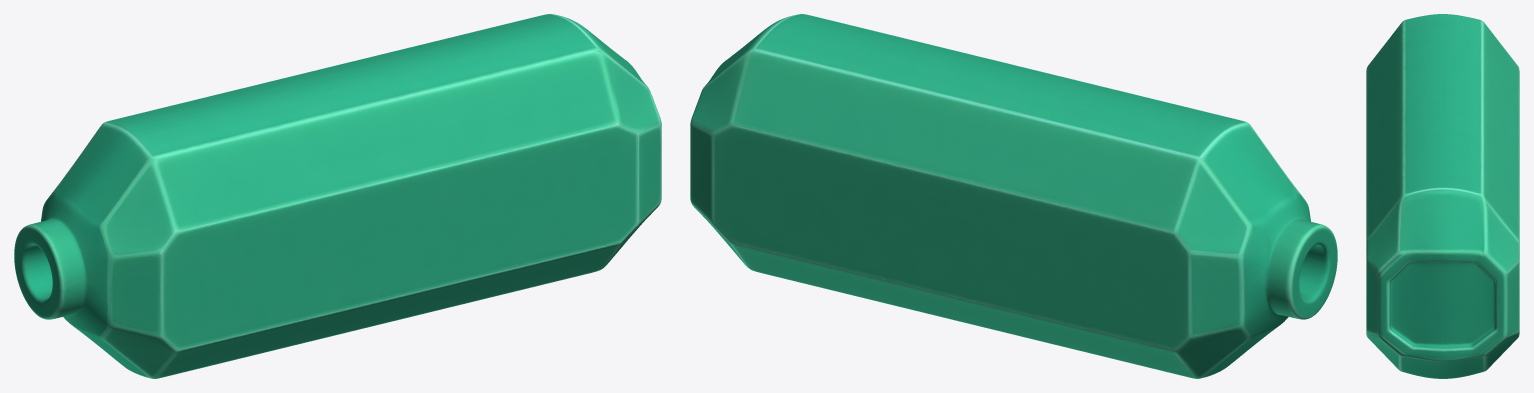
The model's file is RetroWaterTank.glb.
3 views of the same model, side by side, from view 1: azimuth 30°, elevation 25°; view 2: azimuth 150°, elevation 25°; view 3: azimuth 270°, elevation 25° (orthographic). The views are drawn at different scales.
Bounding box in the file's own units: 1.9 × 0.729 × 0.5297.
1 material, 1 textured.
